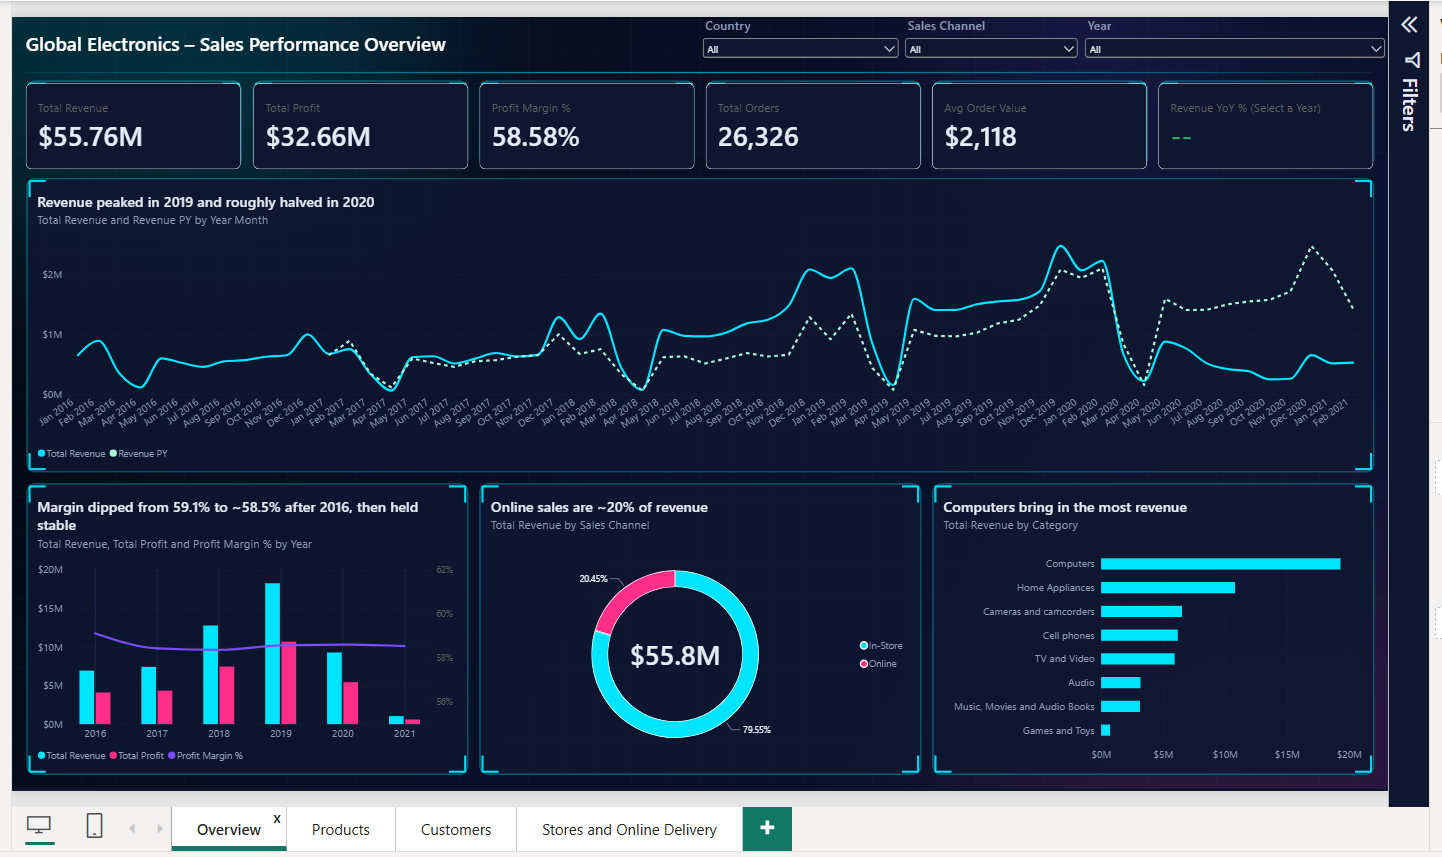

The page's visual inventory and layout, read from the dashboard file:
{"tool":"powerbi","page":{"name":"Overview","canvas":[1920,1080],"ordinal":0},"visuals":[{"type":"textbox","box":[20,20,960.2,64.6],"z":0},{"type":"slicer","fields":{"Values":["Date.Year"]},"box":[1492.8,0,427.7,64.6],"z":1000},{"type":"slicer","fields":{"Values":["Stores.Country"]},"box":[959.7,0,282.4,64.6],"z":2000},{"type":"slicer","fields":{"Values":["Sales.Sales Channel"]},"box":[1242.6,0,250.1,64.6],"z":3000},{"type":"cardVisual","fields":{"Data":["_Measures_.Total Revenue"]},"box":[20,92,300,120],"z":4000},{"type":"cardVisual","fields":{"Data":["_Measures_.Profit Margin %"]},"box":[652,92,300,120],"z":5000},{"type":"cardVisual","fields":{"Data":["_Measures_.Total Profit"]},"box":[336,92,300,120],"z":6000},{"type":"cardVisual","fields":{"Data":["_Measures_.Total Orders"]},"box":[968,92,300,120],"z":7000},{"type":"cardVisual","fields":{"Data":["_Measures_.Avg Order Value"]},"box":[1284,92,300,120],"z":8000},{"type":"cardVisual","title":"Revenue YoY % (Select a Year)","fields":{"Data":["_Measures_.Revenue YoY %"]},"box":[1600,92,300,120],"z":9000},{"type":"lineChart","title":"Revenue peaked in 2019 and roughly halved in 2020","fields":{"Category":["Date.Year Month"],"Y":["_Measures_.Total Revenue","_Measures_.Revenue PY"]},"box":[20,228,1880,410],"z":10000},{"type":"donutChart","title":"Online sales are ~20% of revenue","fields":{"Category":["Sales.Sales Channel"],"Y":["_Measures_.Total Revenue"]},"box":[652,654,616,406],"z":11000},{"type":"lineClusteredColumnComboChart","title":"Margin dipped from 59.1% to ~58.5% after 2016, then held stable","fields":{"Category":["Date.Year"],"Y":["_Measures_.Total Revenue","_Measures_.Total Profit"],"Y2":["_Measures_.Profit Margin %"]},"box":[20,654,616,406],"z":12000},{"type":"clusteredBarChart","title":"Computers bring in the most revenue","fields":{"Category":["Products.Category"],"Y":["_Measures_.Total Revenue"]},"box":[1284,654,616,406],"z":13000}]}

Visuals, with their boxes on the page's 1920x1080 design canvas (x1, y1, x2, y2). These are canvas units, not pixel positions in the 1442x857 screenshot, which may show the page scaled, cropped or inside an application window:
textbox: region(20, 20, 980, 85)
slicer - Date.Year: region(1493, 0, 1920, 65)
slicer - Stores.Country: region(960, 0, 1242, 65)
slicer - Sales.Sales Channel: region(1243, 0, 1493, 65)
cardVisual - _Measures_.Total Revenue: region(20, 92, 320, 212)
cardVisual - _Measures_.Profit Margin %: region(652, 92, 952, 212)
cardVisual - _Measures_.Total Profit: region(336, 92, 636, 212)
cardVisual - _Measures_.Total Orders: region(968, 92, 1268, 212)
cardVisual - _Measures_.Avg Order Value: region(1284, 92, 1584, 212)
"Revenue YoY % (Select a Year)" cardVisual: region(1600, 92, 1900, 212)
"Revenue peaked in 2019 and roughly halved in 2020" lineChart: region(20, 228, 1900, 638)
"Online sales are ~20% of revenue" donutChart: region(652, 654, 1268, 1060)
"Margin dipped from 59.1% to ~58.5% after 2016, then held stable" lineClusteredColumnComboChart: region(20, 654, 636, 1060)
"Computers bring in the most revenue" clusteredBarChart: region(1284, 654, 1900, 1060)
